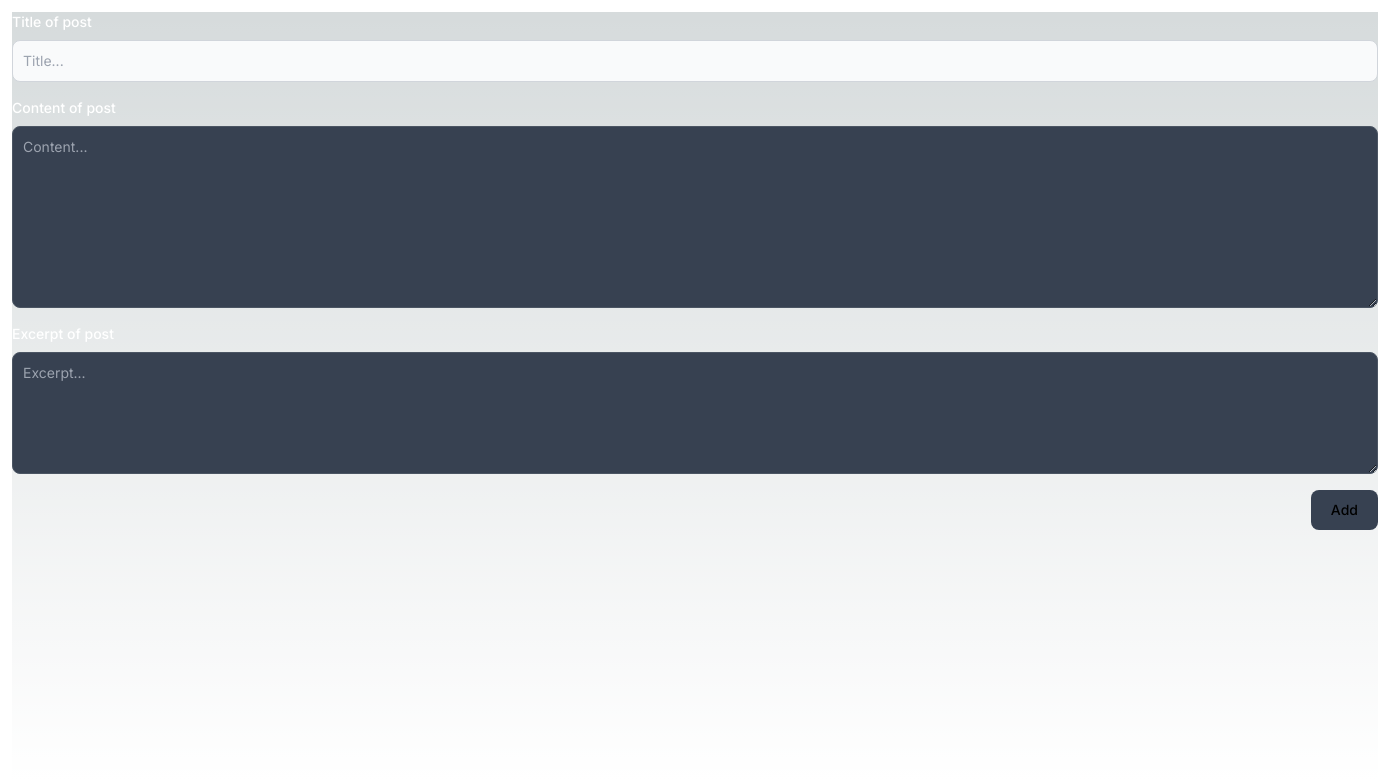
Form conponent › should display error message when title is empty
The image size is (1390, 780).
What coordinates should you click on to do the following:
click the button "Add"
I would click on:
 (1344, 510)
Its box is [1311,490,1378,530].
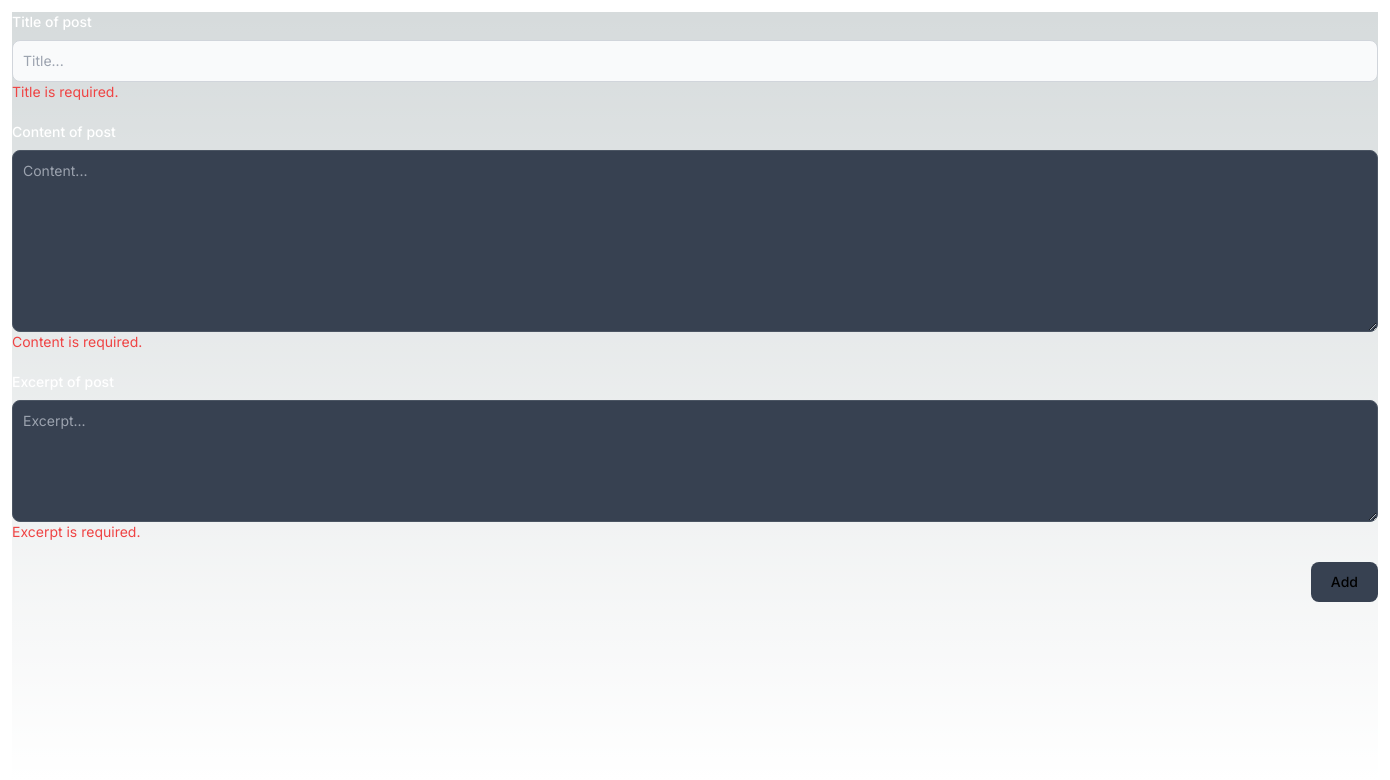
Expected: the text "Title is required." is shown, [12,83,118,100]
